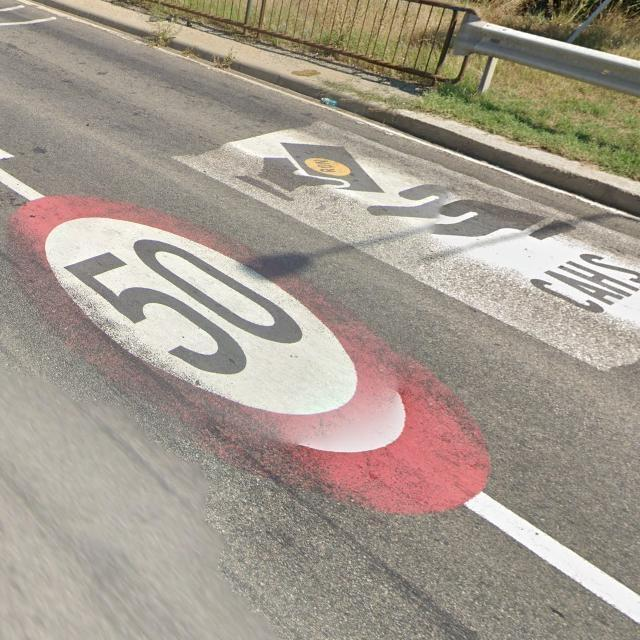forb_speed_over_50: (6, 195, 491, 516)
